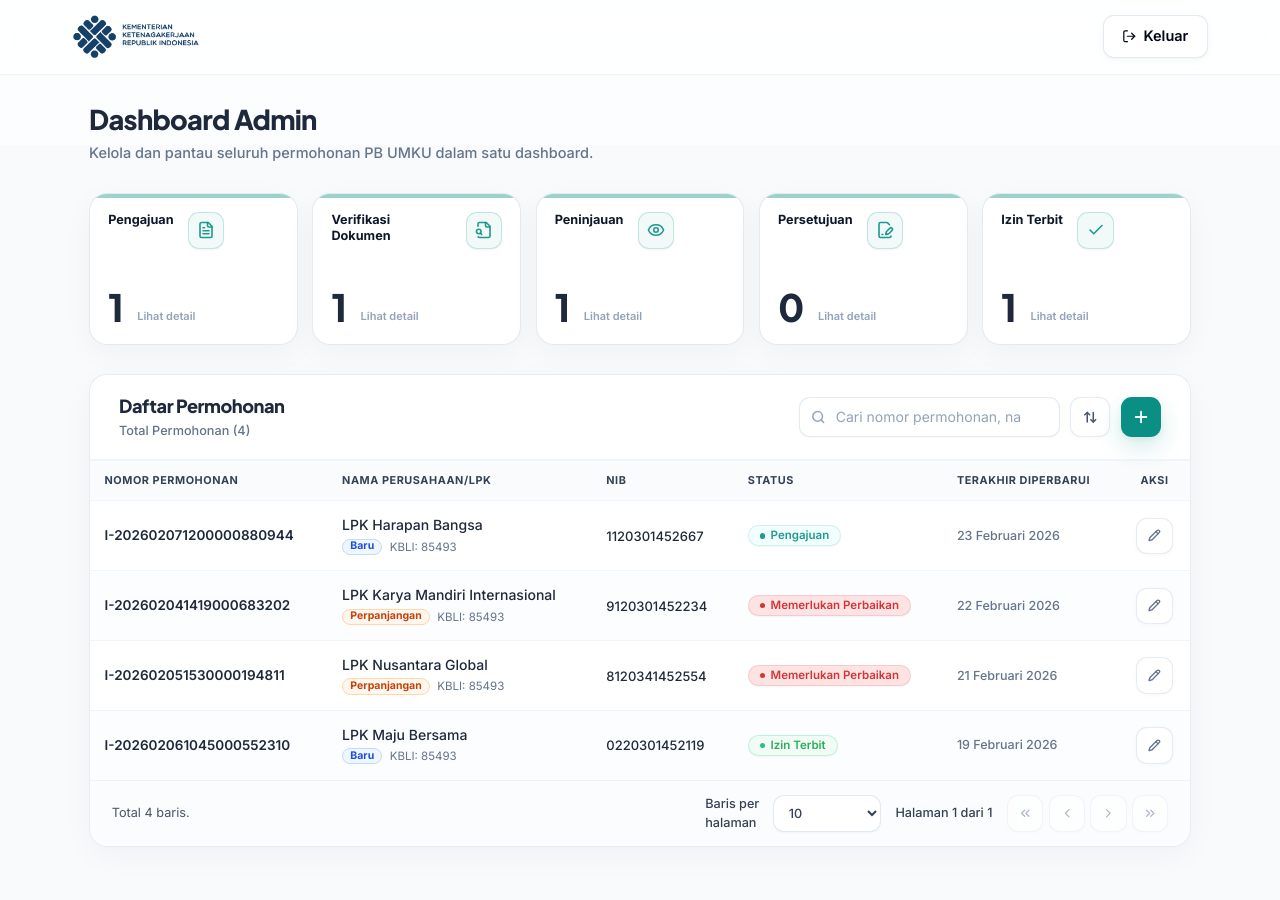
Scenario: session flow › uses an Indonesian calendar popup for admin date fields
Step 1. Click the button named "Tambah permohonan baru" → (1141, 417), box x1=1121 y1=397 x2=1161 y2=437
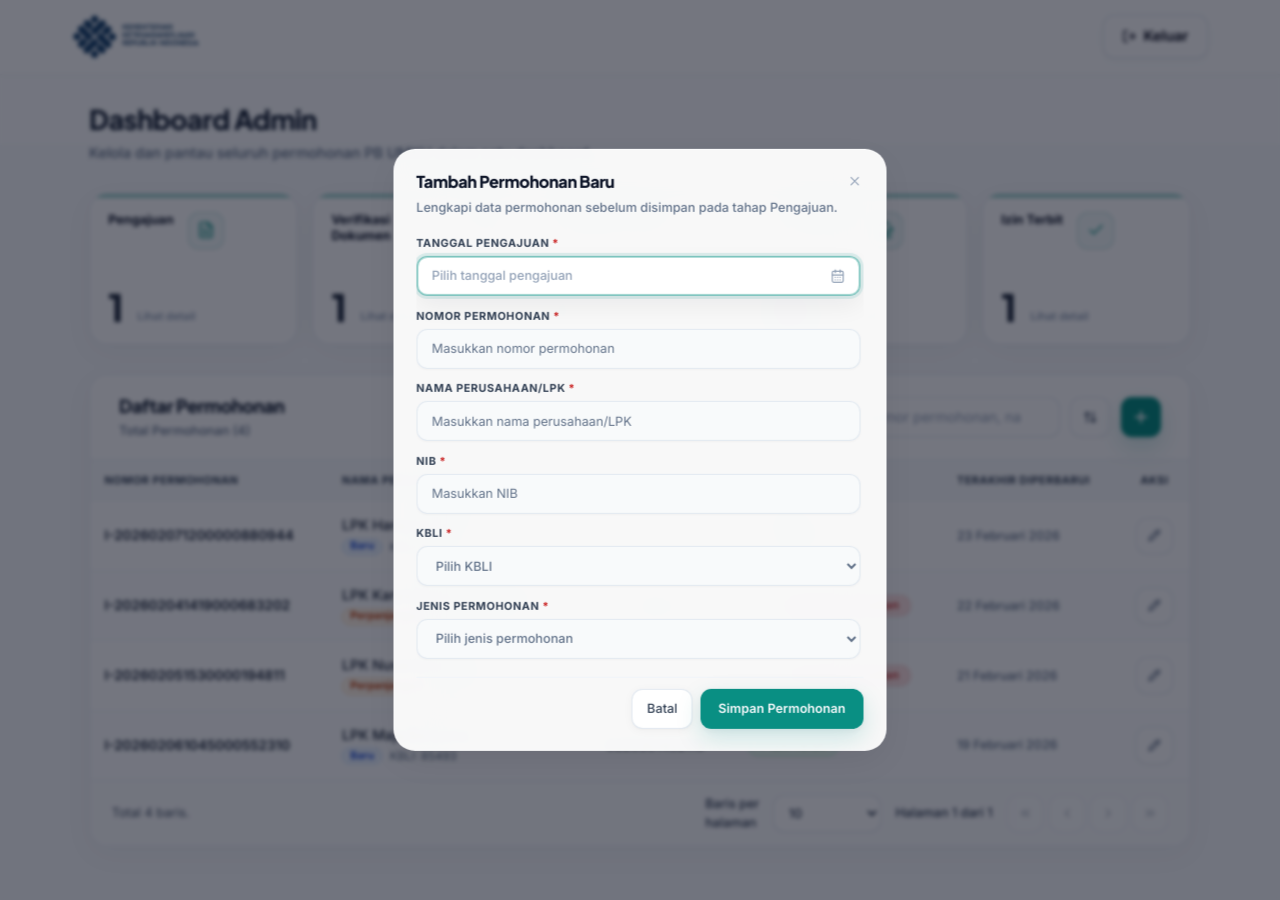
Step 2. Click the button "Pilih tanggal pengajuan" → (502, 276), box x1=416 y1=256 x2=860 y2=296
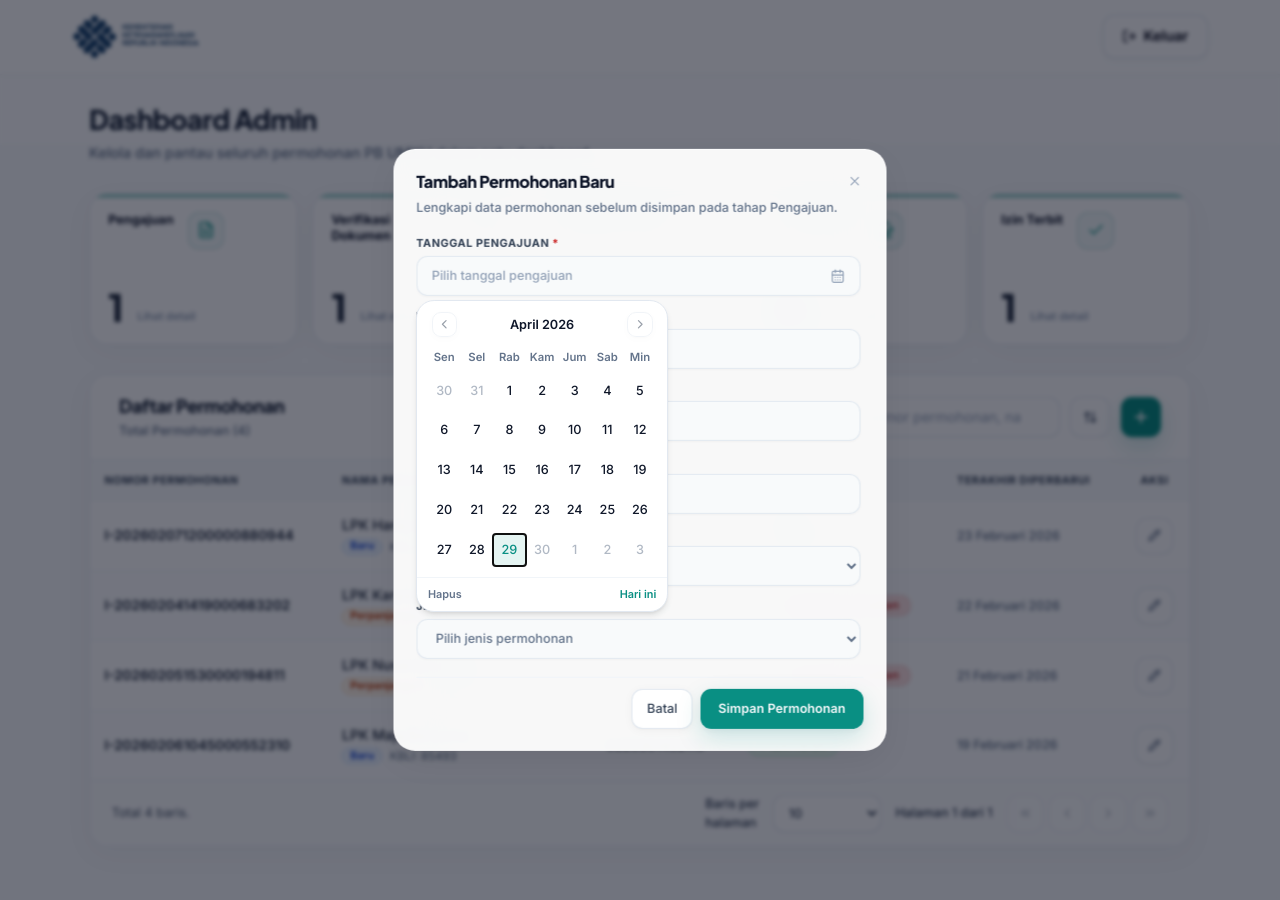
Check: the button "Hari ini" is shown, box x1=620 y1=587 x2=656 y2=602
Check: the button "Hapus" is shown, box x1=428 y1=587 x2=462 y2=602
